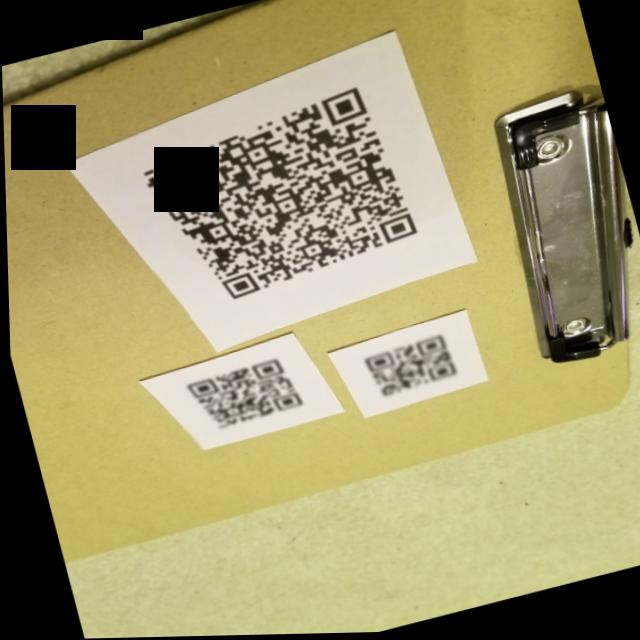QR_CODE: (114, 69, 438, 324), (166, 344, 314, 452), (349, 325, 469, 414)
